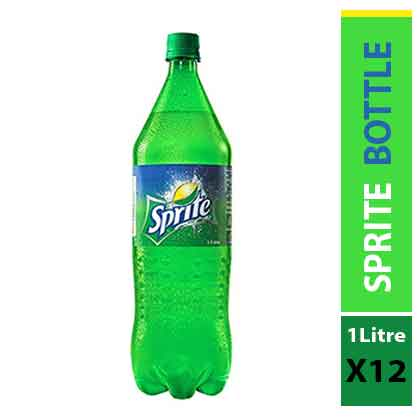sprite_bottle: (133, 33, 232, 399)
